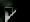person: (7, 5, 17, 22)
